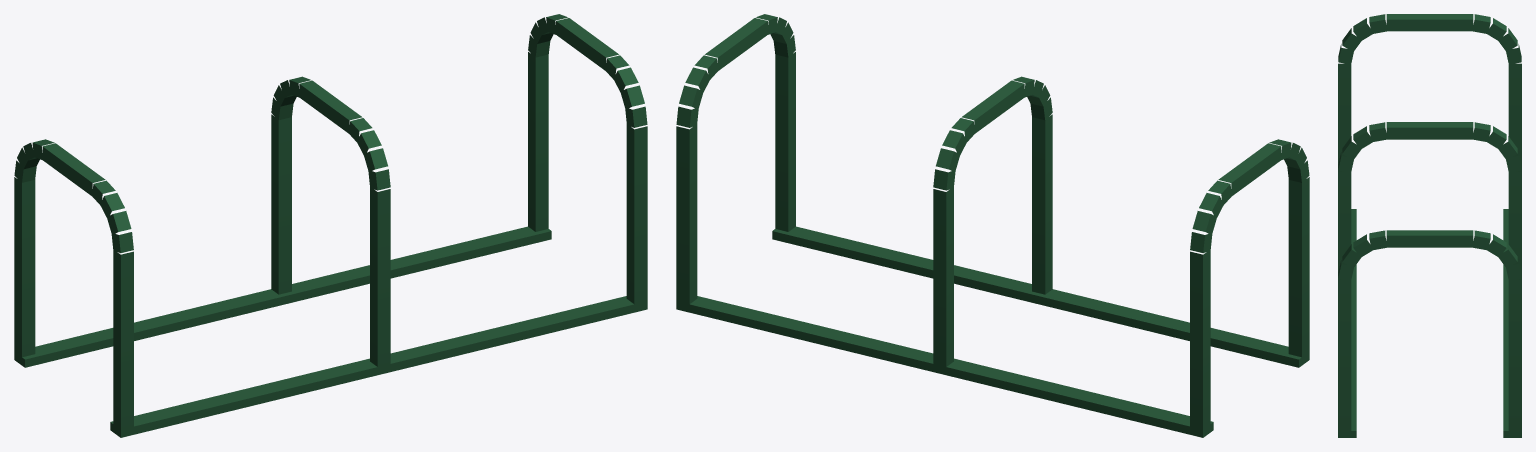
File: street.bike_rack.green.glb
The picture shows the model from 3 angles, left to right: view 1: azimuth 30°, elevation 25°; view 2: azimuth 150°, elevation 25°; view 3: azimuth 270°, elevation 25°; orthographic projection. The views are drawn at different scales.
Parts seen in each view (by area): view 1: street_bike_rack_green; view 2: street_bike_rack_green; view 3: street_bike_rack_green.
Part boxes in pixels (x1,y1,x2,y2): street_bike_rack_green: (14, 14, 647, 437); street_bike_rack_green: (676, 14, 1309, 437); street_bike_rack_green: (1338, 14, 1521, 437).
Size of what is drawn, in the model's own units: 2 by 0.85 by 0.7.
